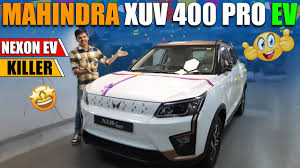XUV 400: (78, 39, 249, 168)
